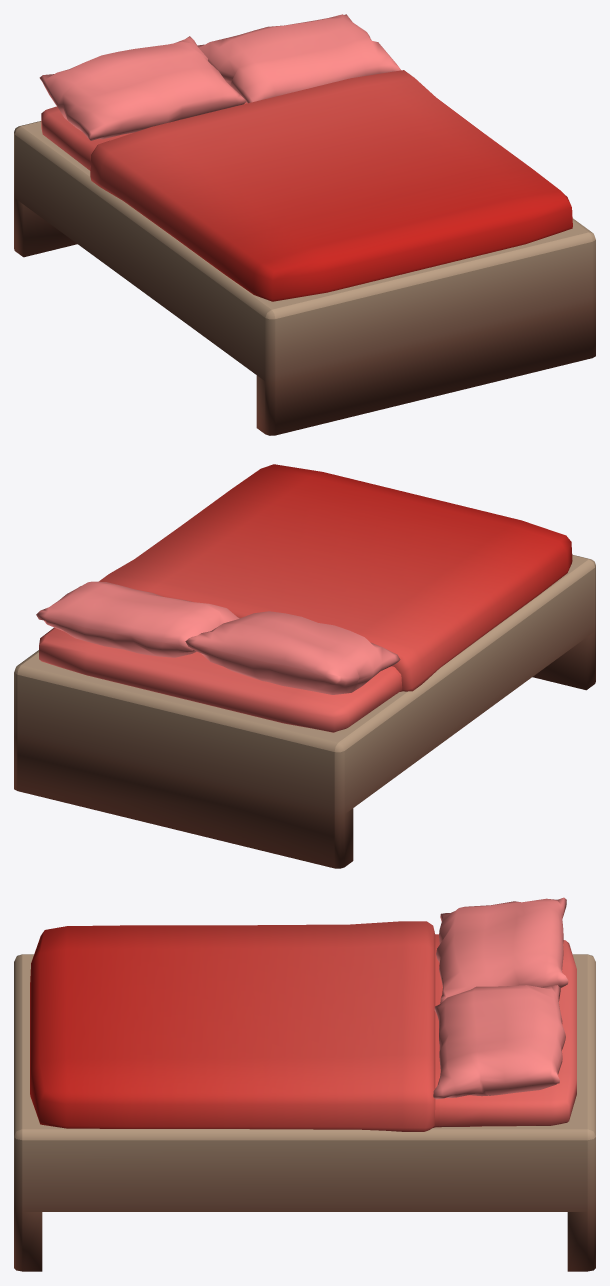
Rendered from Bed.fbx.
3 renders of one model, top to bottom at view 1: azimuth 30°, elevation 25°; view 2: azimuth 150°, elevation 25°; view 3: azimuth 270°, elevation 25°, orthographic. The views are drawn at different scales.
Parts seen in each view (by area): view 1: Bed; view 2: Bed; view 3: Bed.
Boxes of the visible parts, box(x1,y1,x2,y2) form: Bed: box(14, 14, 595, 435); Bed: box(14, 464, 595, 868); Bed: box(14, 897, 595, 1271).
Size of the model in its own units: 1.74 by 0.9619 by 2.36.
